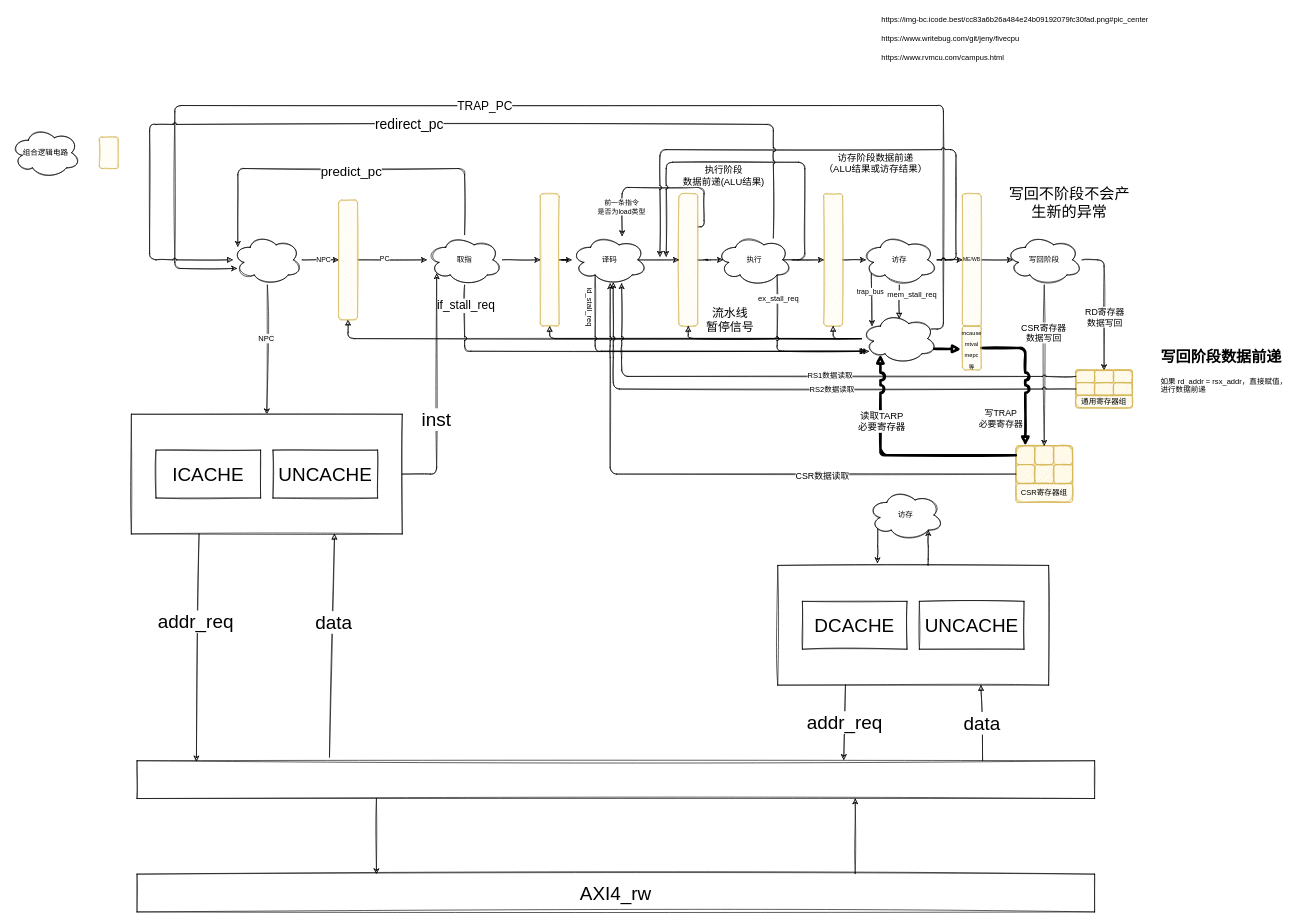
This 1301x923 diagram has some shape labels left out. Here are the shapes that lost their labels. From the top down, the box of each, then its label:
(99, 136, 118, 169): D触发器
(232, 234, 302, 285): pre 取指
(338, 199, 358, 320): PC 寄存器
(540, 193, 559, 326): IF/ID
(678, 193, 698, 326): ID/EX
(823, 193, 843, 326): EX/ME
(861, 313, 937, 364): clint & ctrl
(136, 760, 1095, 799): AXI4_arb
